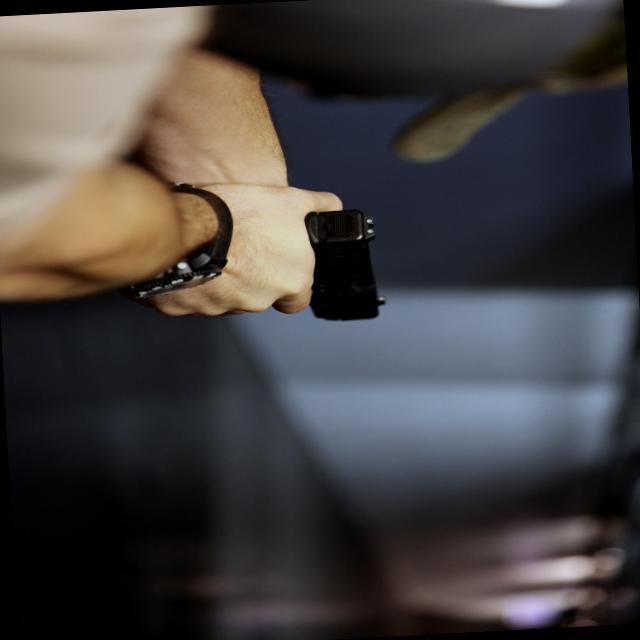handgun: (276, 209, 400, 327)
